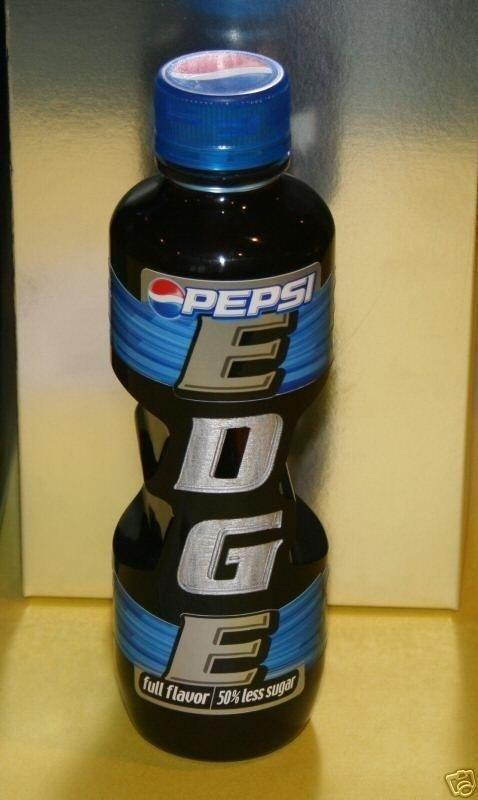bottle-plastic: (104, 44, 341, 766)
